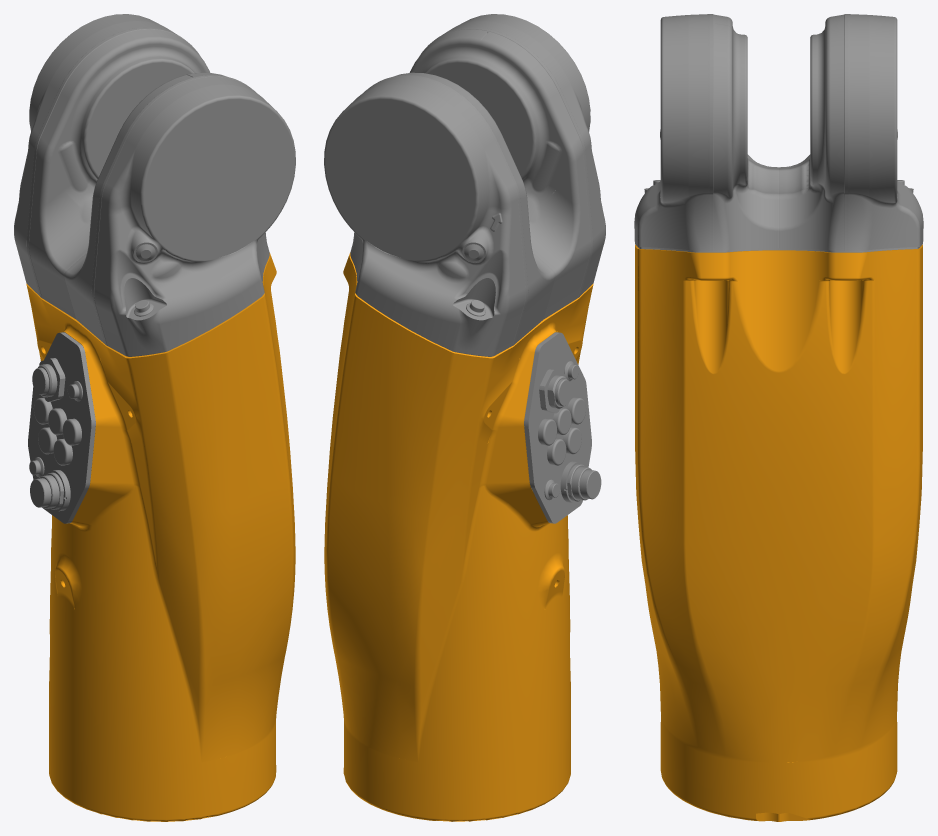
3 renders of one model, left to right at view 1: azimuth 30°, elevation 25°; view 2: azimuth 150°, elevation 25°; view 3: azimuth 270°, elevation 25°, orthographic. The views are drawn at different scales.
Visible parts, largest first — view 1: PART_J4_L_from_XG0000079A, PART_J4_L_from_XG0000079A001, PART_J4_L_from_XG0000079A002; view 2: PART_J4_L_from_XG0000079A, PART_J4_L_from_XG0000079A001, PART_J4_L_from_XG0000079A002; view 3: PART_J4_L_from_XG0000079A, PART_J4_L_from_XG0000079A001.
Part boxes in pixels (<box>): PART_J4_L_from_XG0000079A: <box>26,253,295,821</box>; PART_J4_L_from_XG0000079A001: <box>14,14,295,356</box>; PART_J4_L_from_XG0000079A002: <box>28,332,95,523</box>; PART_J4_L_from_XG0000079A: <box>324,253,593,821</box>; PART_J4_L_from_XG0000079A001: <box>324,14,605,356</box>; PART_J4_L_from_XG0000079A002: <box>524,332,601,523</box>; PART_J4_L_from_XG0000079A: <box>635,244,922,821</box>; PART_J4_L_from_XG0000079A001: <box>634,14,923,252</box>.
Bounding box in the file's own units: 0.129 × 0.1345 × 0.3866.
